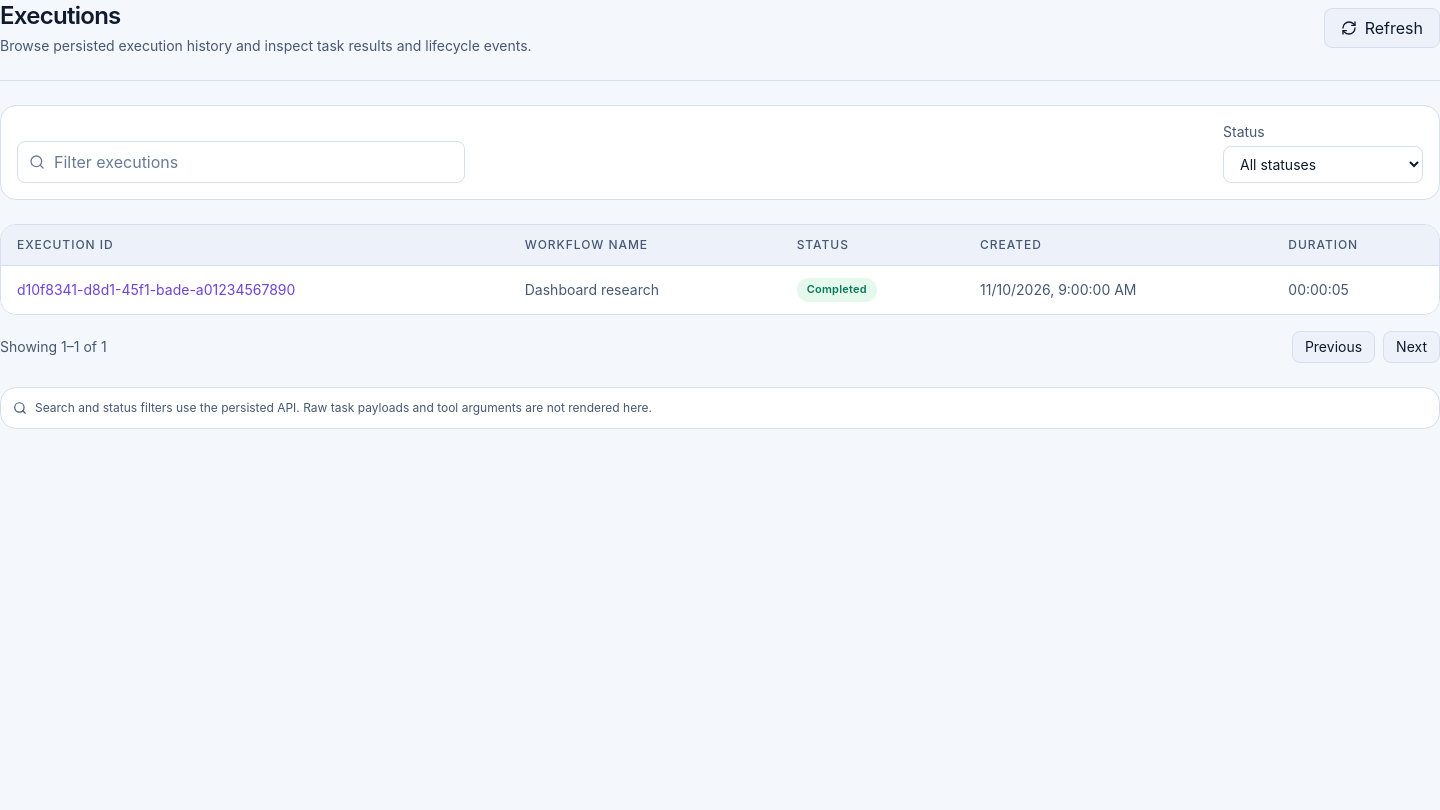
Scenario: ExecutionsPage › does not render approval decision controls for workspace members
The image size is (1440, 810).
Click the button "d10f8341-d8d1-45f1-bade-a01234567890" at (156, 290), box [17,280,295,300]
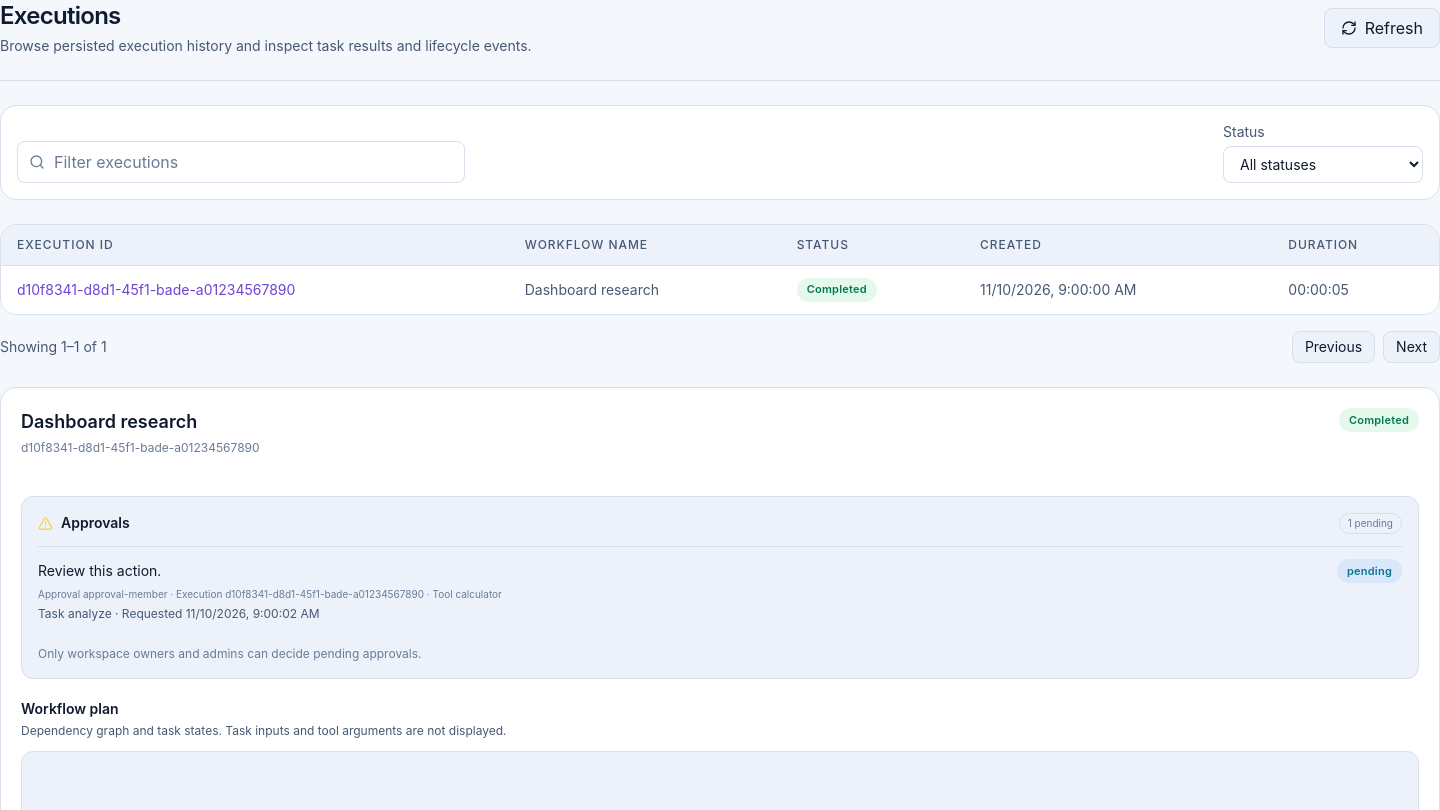
Now the text "Review this action." is shown, box [38,561,161,581]
Now the text "Only workspace owners and admins" is shown, box [38,646,422,661]
